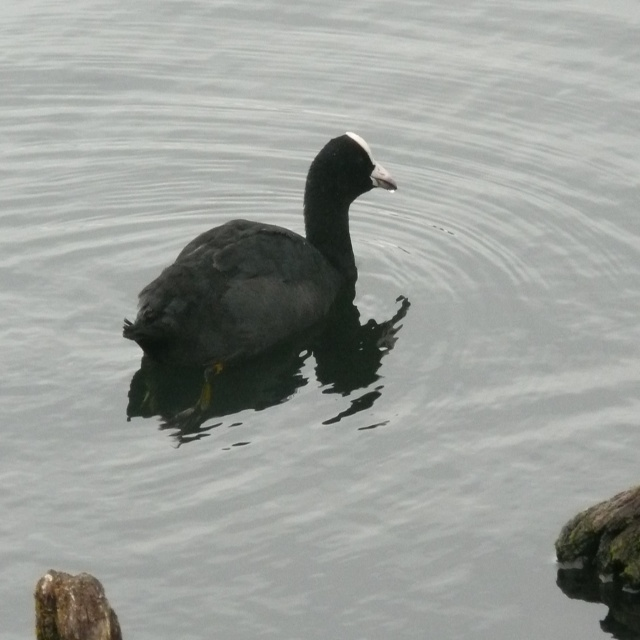Duck: (123, 132, 397, 431)
